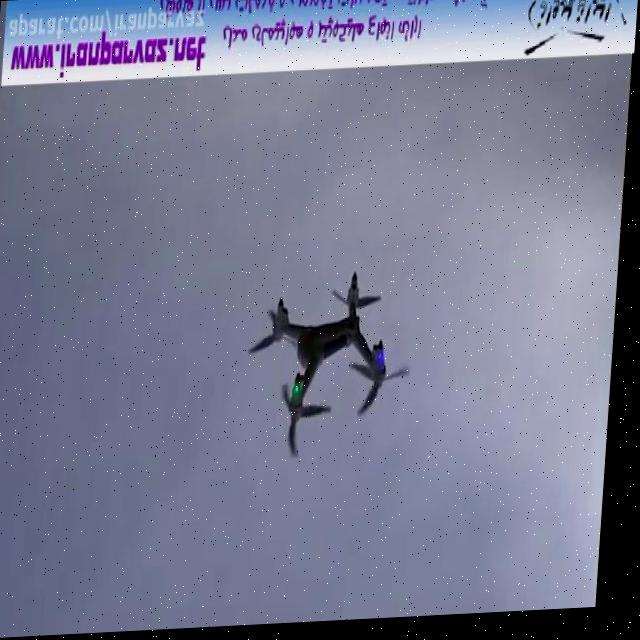drone: (241, 266, 423, 467)
